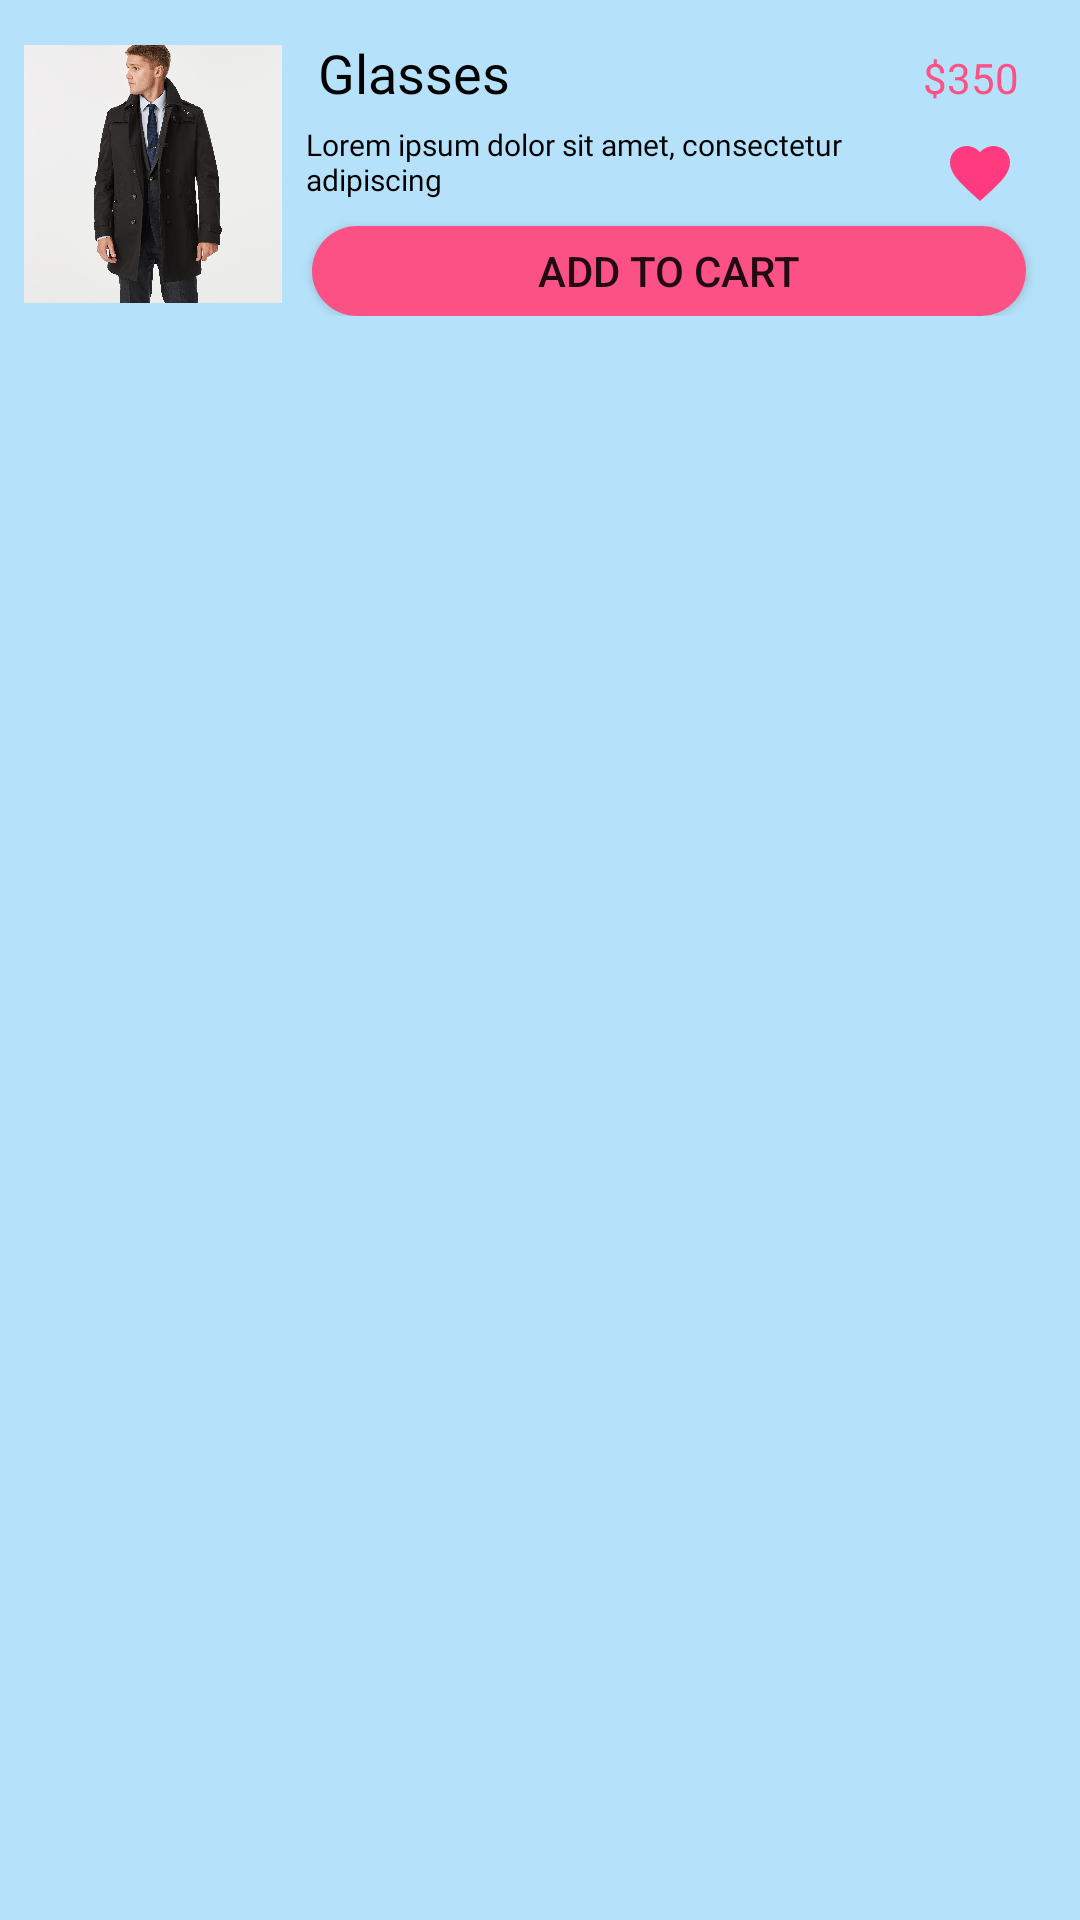

Point at icon controls on the screen. Image size 1080 × 1920, points as [x,y].
favourite: [980,173]
